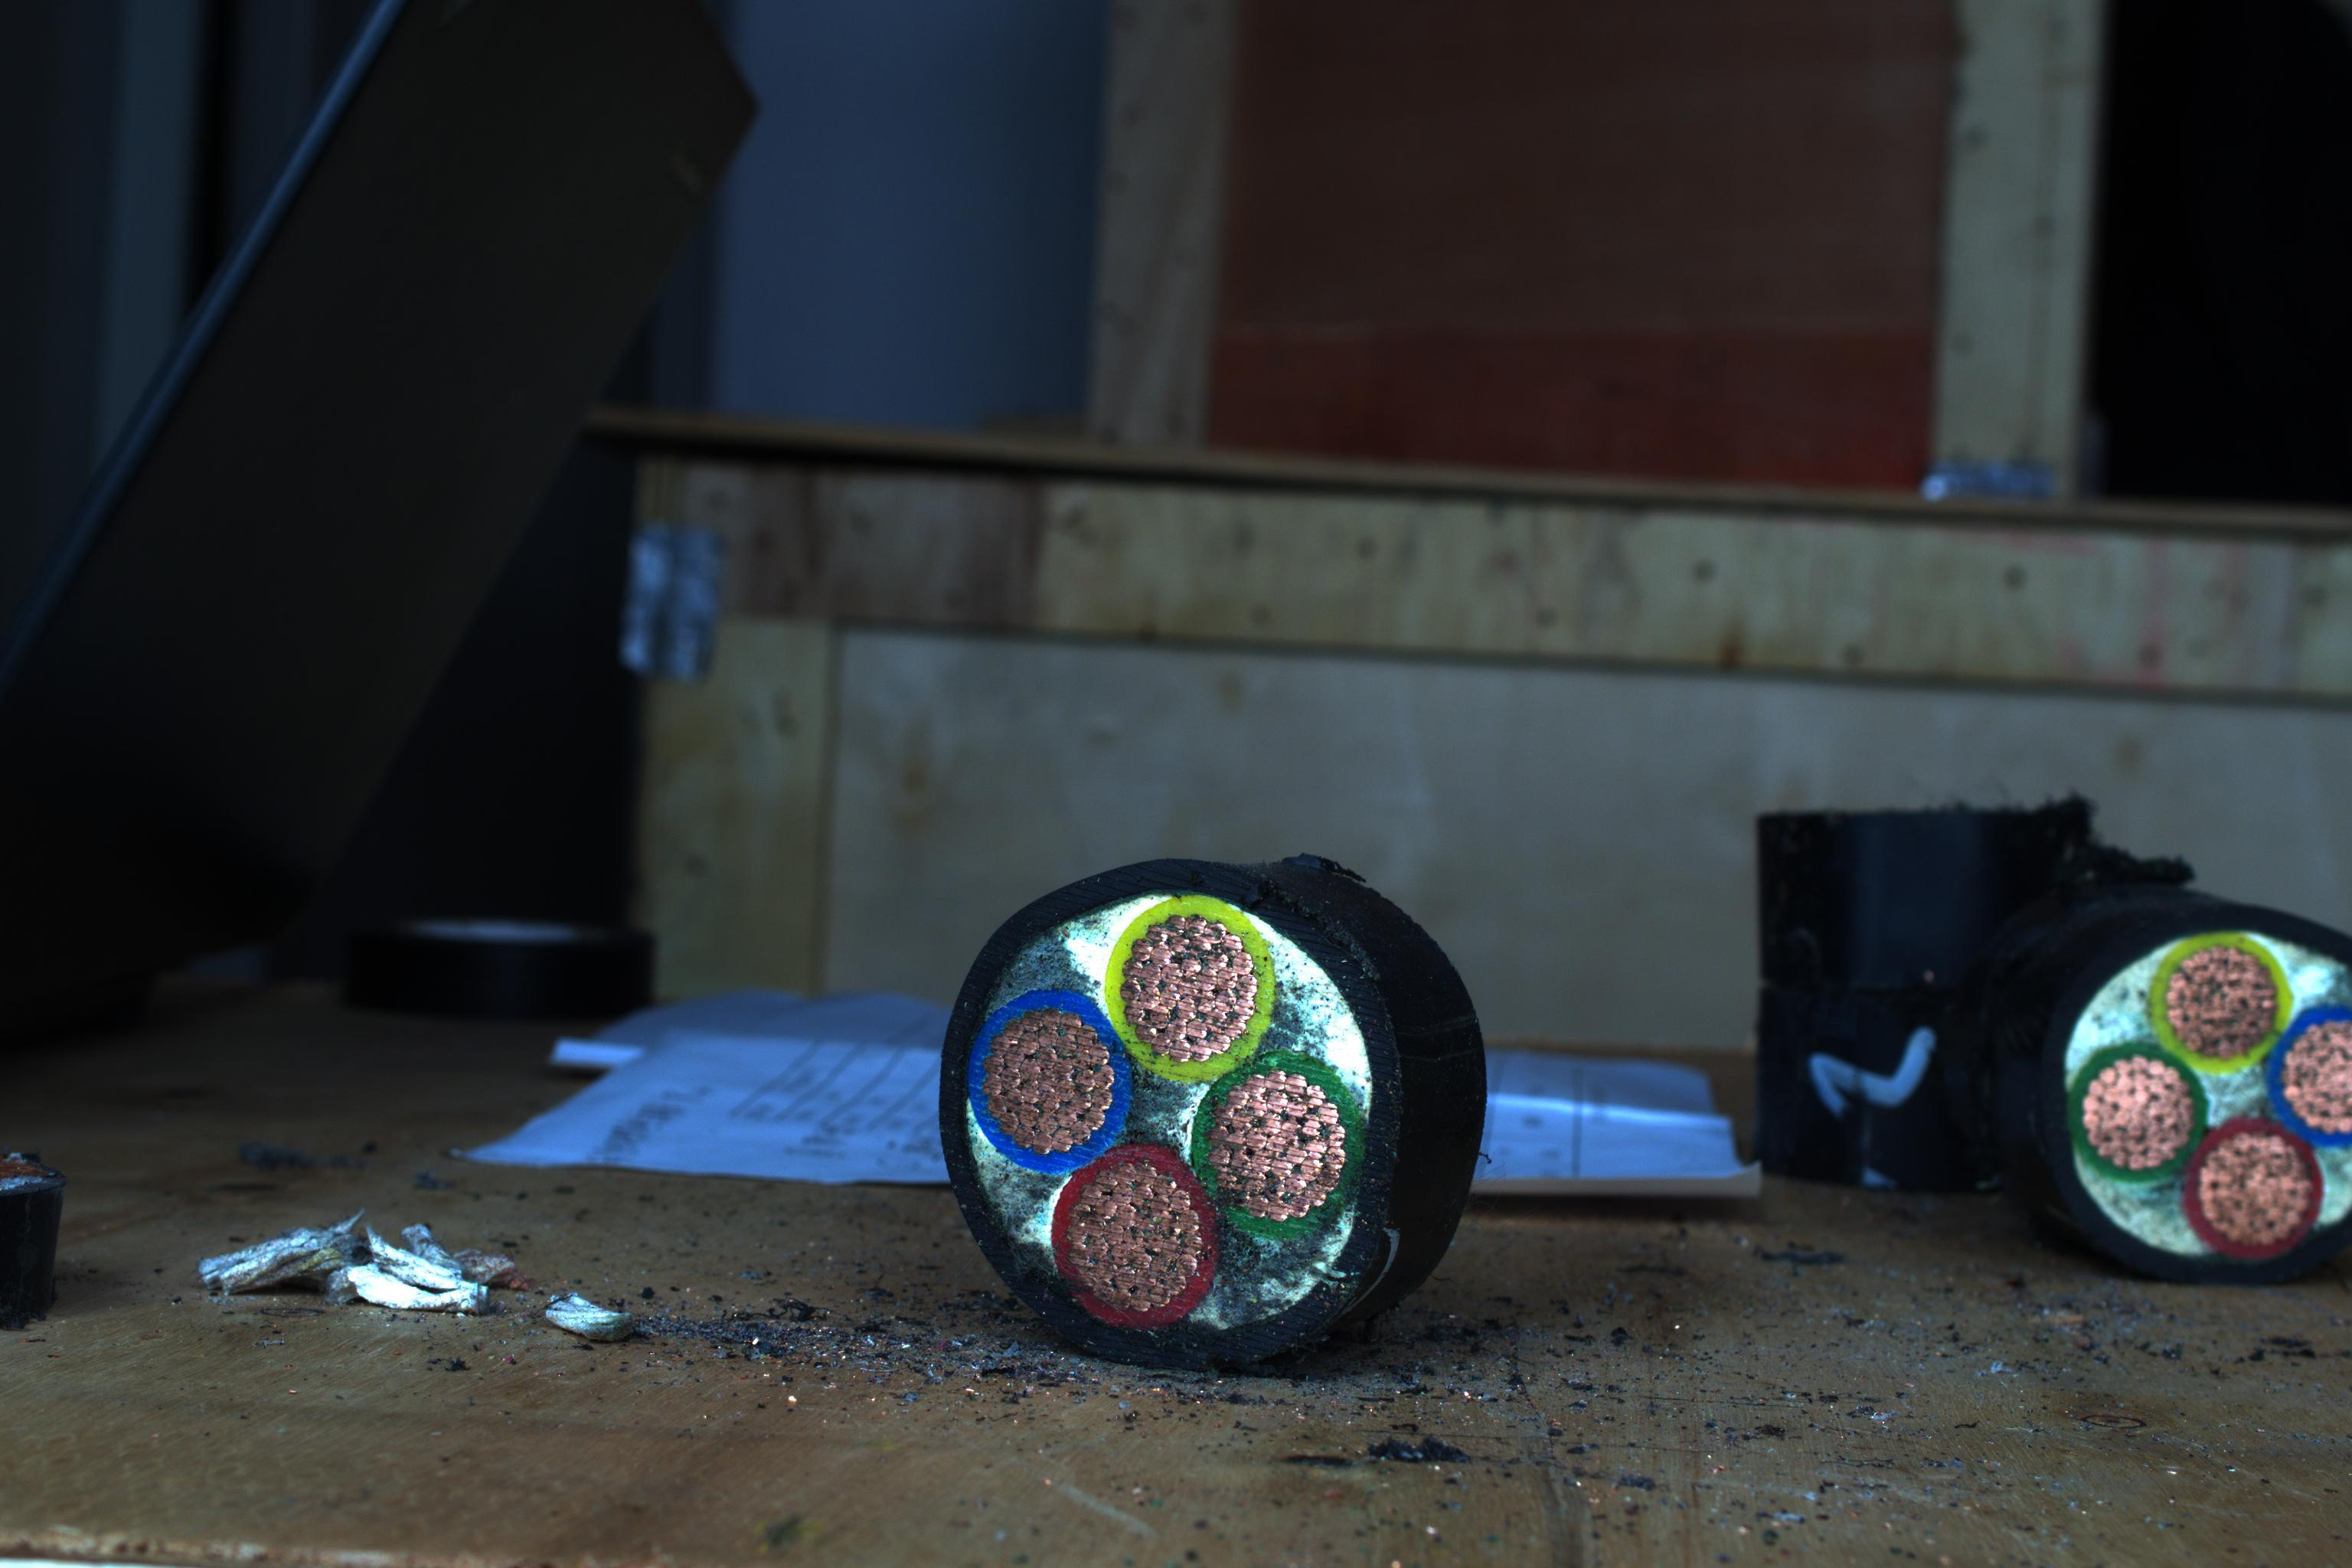YJV_0.6_1kV_4x185: (934, 857, 1396, 1332)
